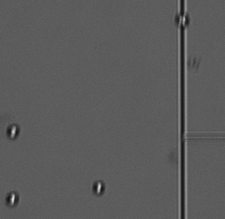Living Cell: (89, 178, 106, 196), (4, 123, 21, 140), (4, 190, 20, 208)
